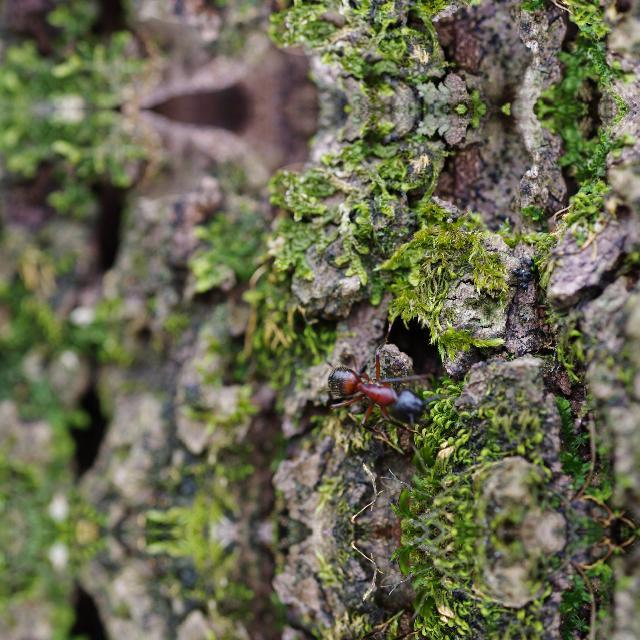Camponotus: (306, 342, 458, 440)
